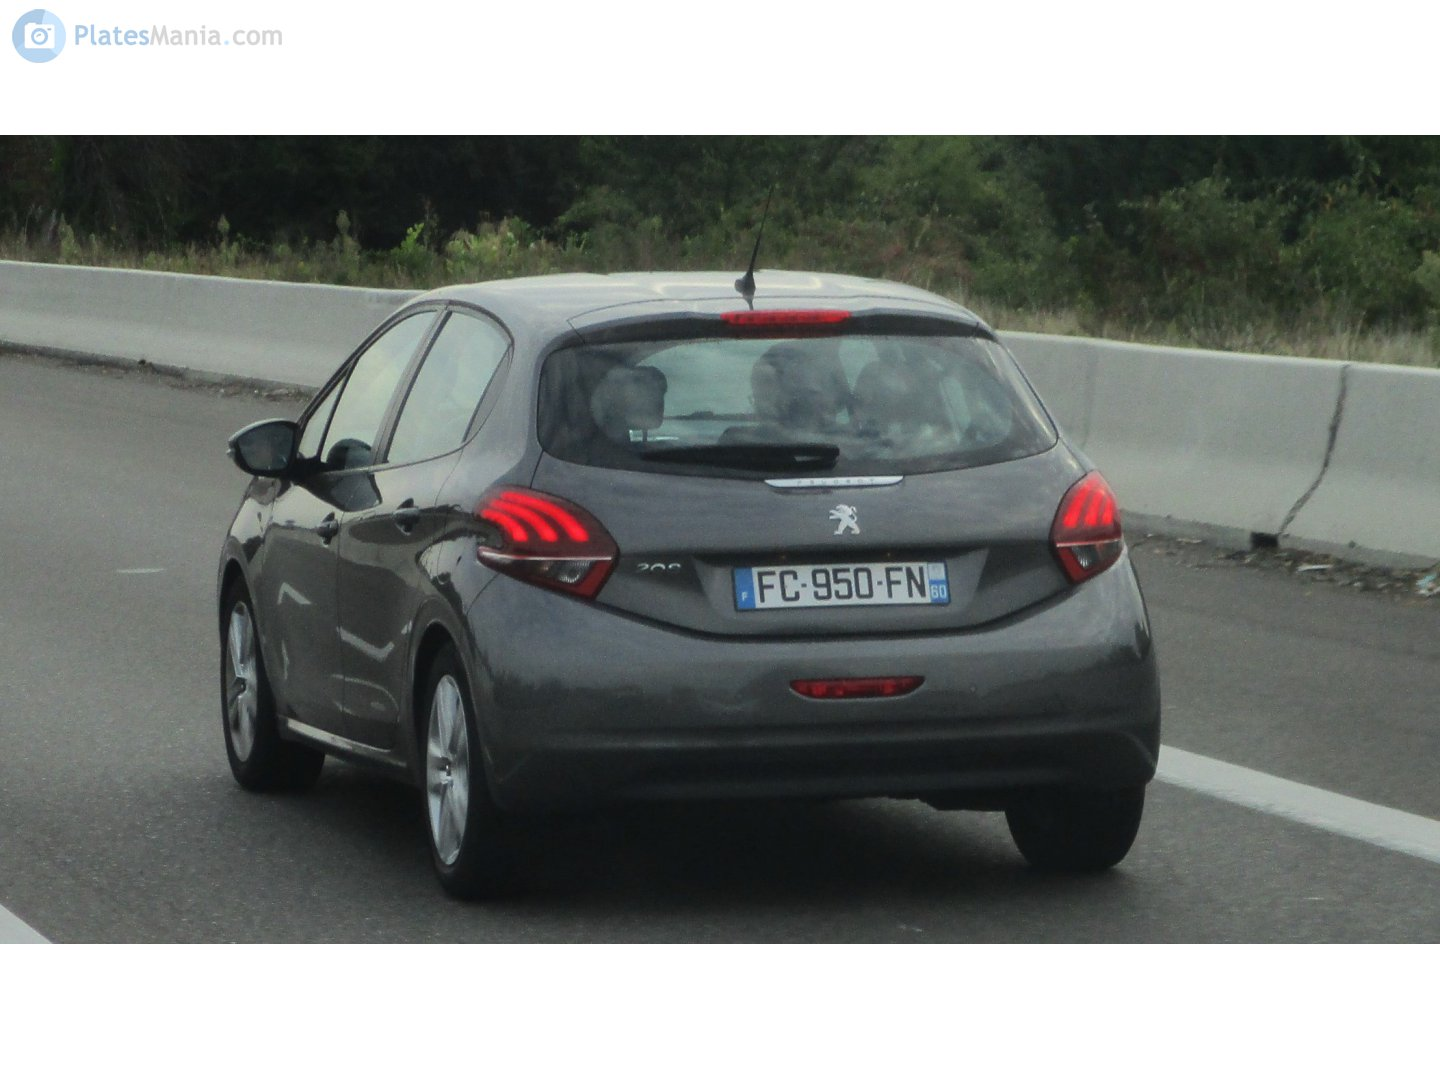licence plate: (727, 554, 954, 612)
